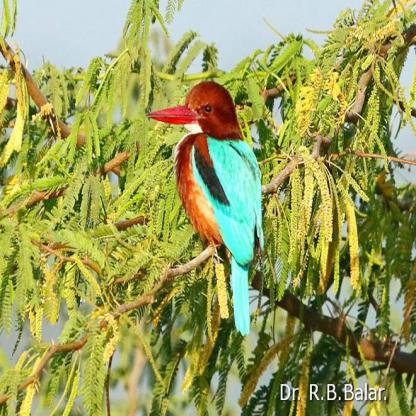Burung: (146, 81, 264, 335)
